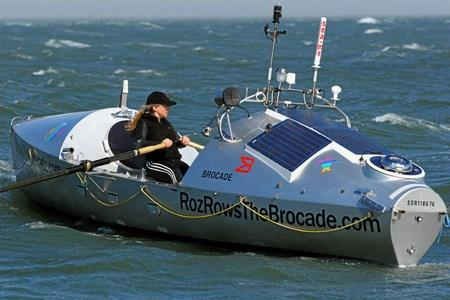person: (134, 91, 193, 186)
